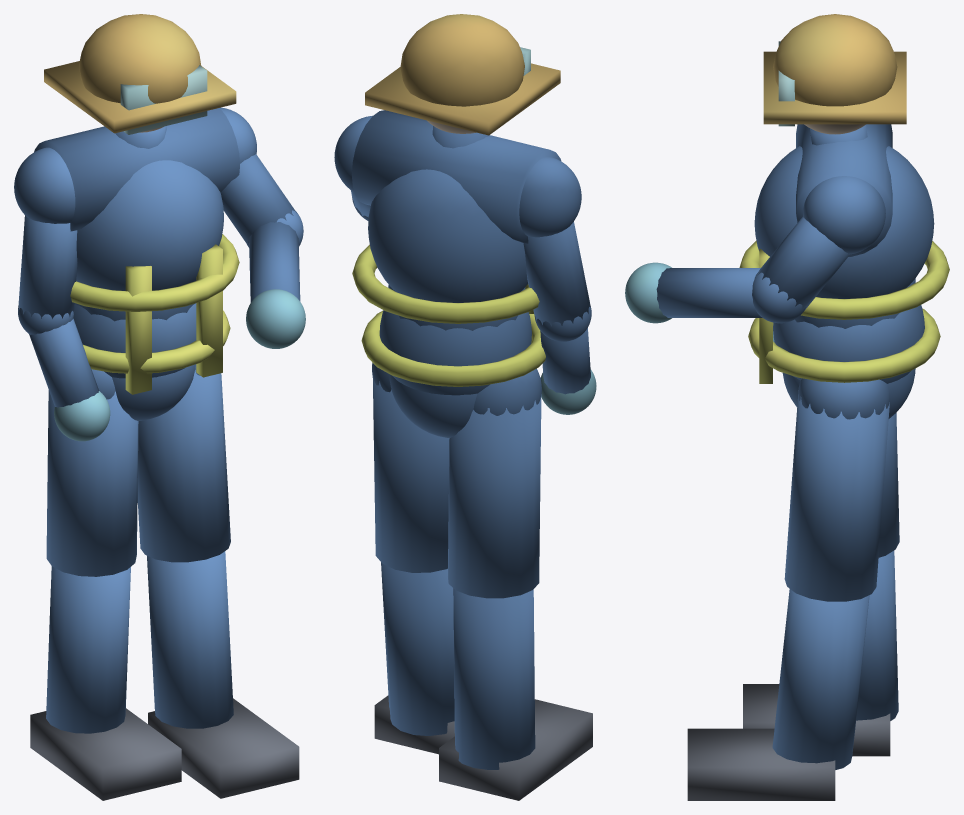
File: human.glb
The picture shows the model from 3 angles, left to right: view 1: azimuth 30°, elevation 25°; view 2: azimuth 150°, elevation 25°; view 3: azimuth 270°, elevation 25°; orthographic projection.
Visible parts, largest first — view 1: Coverall, Boot, Helmet, Vest, Glove, Visor; view 2: Coverall, Helmet, Vest, Boot, Glove; view 3: Coverall, Helmet, Boot, Vest, Glove.
Part boxes in pixels (x1=…): Coverall: x1=14, y1=107, x2=303, y2=733; Boot: x1=30, y1=698, x2=299, y2=800; Helmet: x1=44, y1=14, x2=236, y2=133; Vest: x1=70, y1=234, x2=239, y2=394; Glove: x1=54, y1=289, x2=305, y2=441; Visor: x1=120, y1=65, x2=207, y2=134; Coverall: x1=334, y1=110, x2=591, y2=769; Helmet: x1=365, y1=14, x2=560, y2=135; Vest: x1=352, y1=244, x2=545, y2=386; Boot: x1=374, y1=695, x2=592, y2=800; Glove: x1=540, y1=369, x2=596, y2=414; Coverall: x1=656, y1=124, x2=934, y2=769; Helmet: x1=763, y1=14, x2=906, y2=124; Boot: x1=687, y1=684, x2=890, y2=800; Vest: x1=739, y1=240, x2=949, y2=383; Glove: x1=625, y1=262, x2=774, y2=342.
Bounding box in the file's own units: 0.643 × 1.77 × 0.705.
